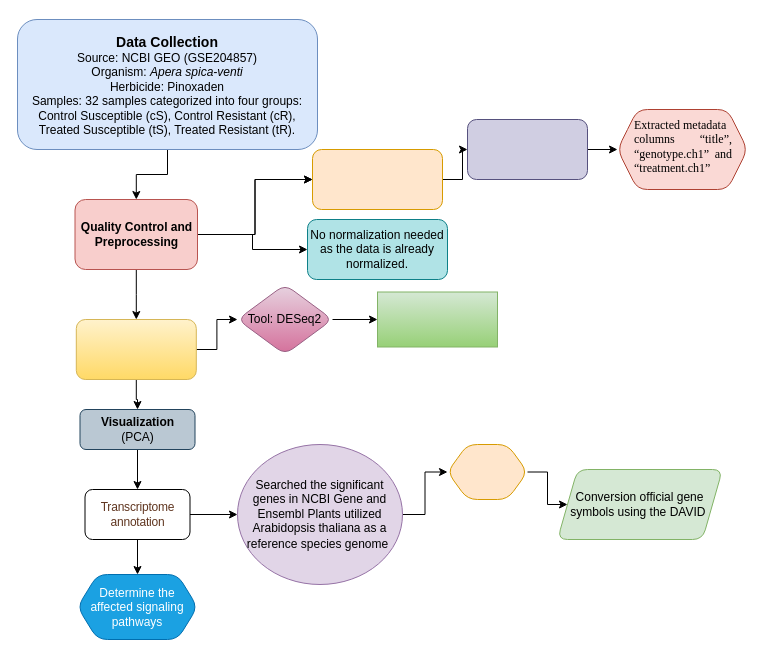
The diagram is 765 pixels wide and 657 high, and some of its shapes have lost their labels. The shapes that lost their labels are listed below. From the top down, each one's centre as x and y in pixels, then its label:
At (527,149): "Import dataset and metadata using geoquery package.".
At (377,179): "RStudio (version 4.3.2) with BiocManager( version 3.18)".
At (437,319): "P-value adjustment and gene filtering".
At (135,349): "Differential Expression Analysis".
At (487,472): "BLAST".
